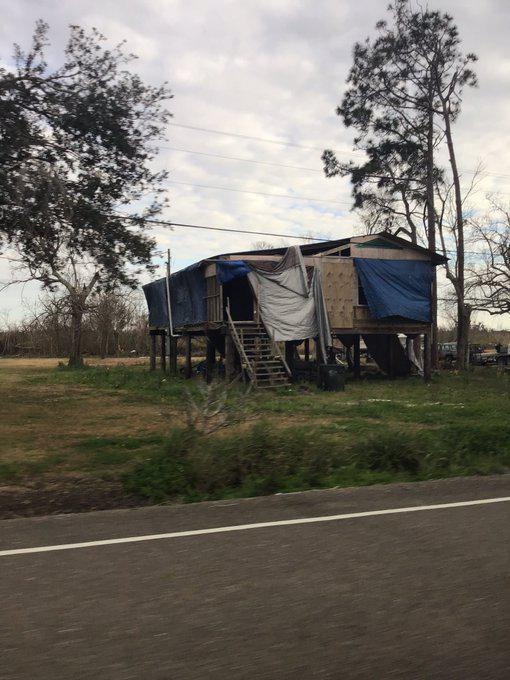major: (134, 228, 448, 396)
